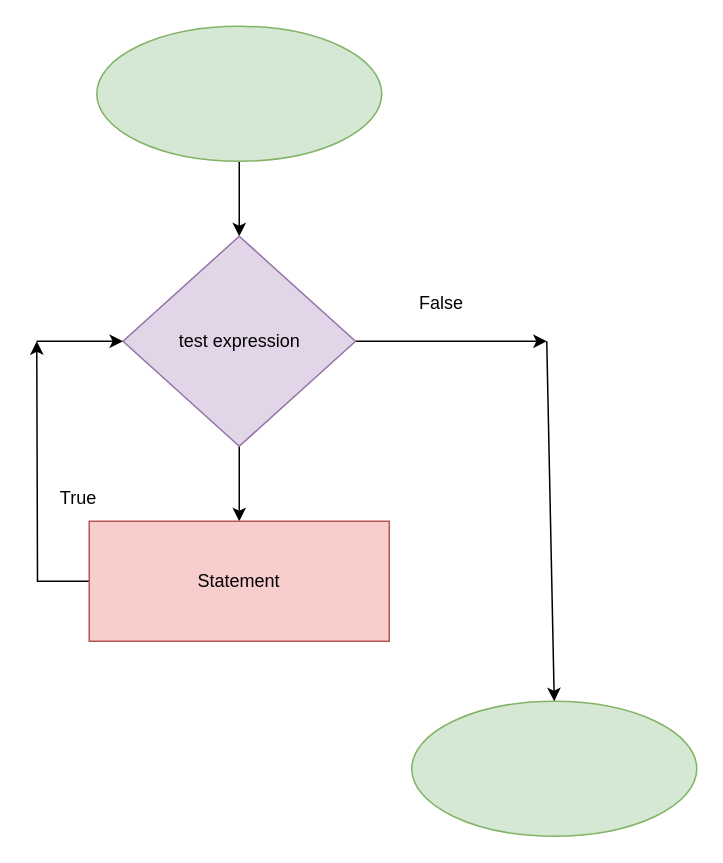
Some shapes in this 723 by 863 pixel diagram are drawn without their labels. The centre of each missing label's shape, as x and y in pixels:
"end" goes at (553,768).
"Start" goes at (238,93).
